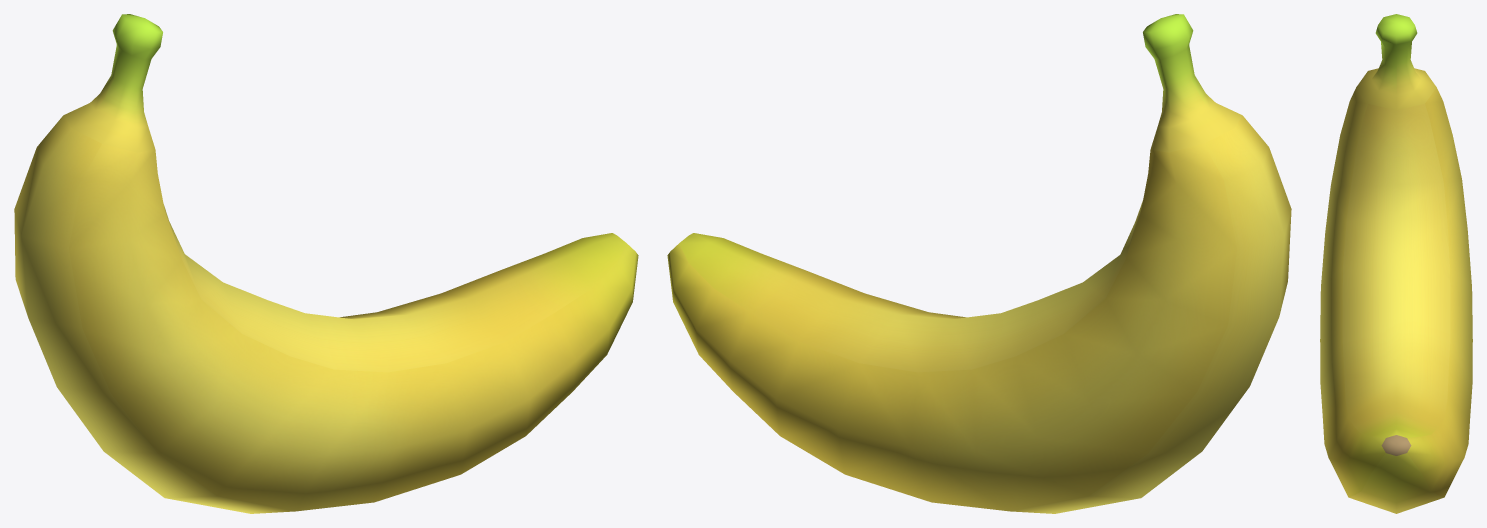
File: banana 1.fbx
3 views of the same model, side by side, from view 1: azimuth 30°, elevation 25°; view 2: azimuth 150°, elevation 25°; view 3: azimuth 270°, elevation 25° (orthographic). The views are drawn at different scales.
Parts seen in each view (by area): view 1: banana; view 2: banana; view 3: banana.
Boxes of the visible parts, left/top/right/bottom form: banana: left=14, top=14, right=638, bottom=513; banana: left=667, top=14, right=1291, bottom=513; banana: left=1320, top=14, right=1472, bottom=513.
Bounding box in the file's own units: 488 × 407 × 144.
Materials: 1 (1 with a texture image).
